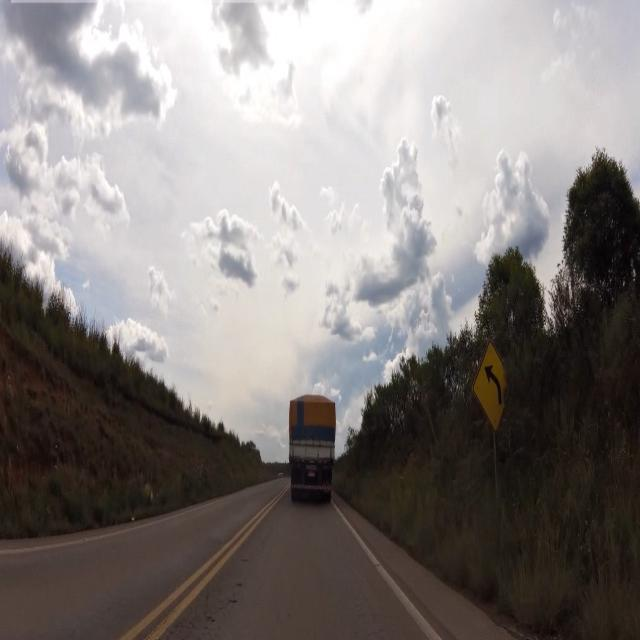A-2a: (472, 340, 514, 433)
